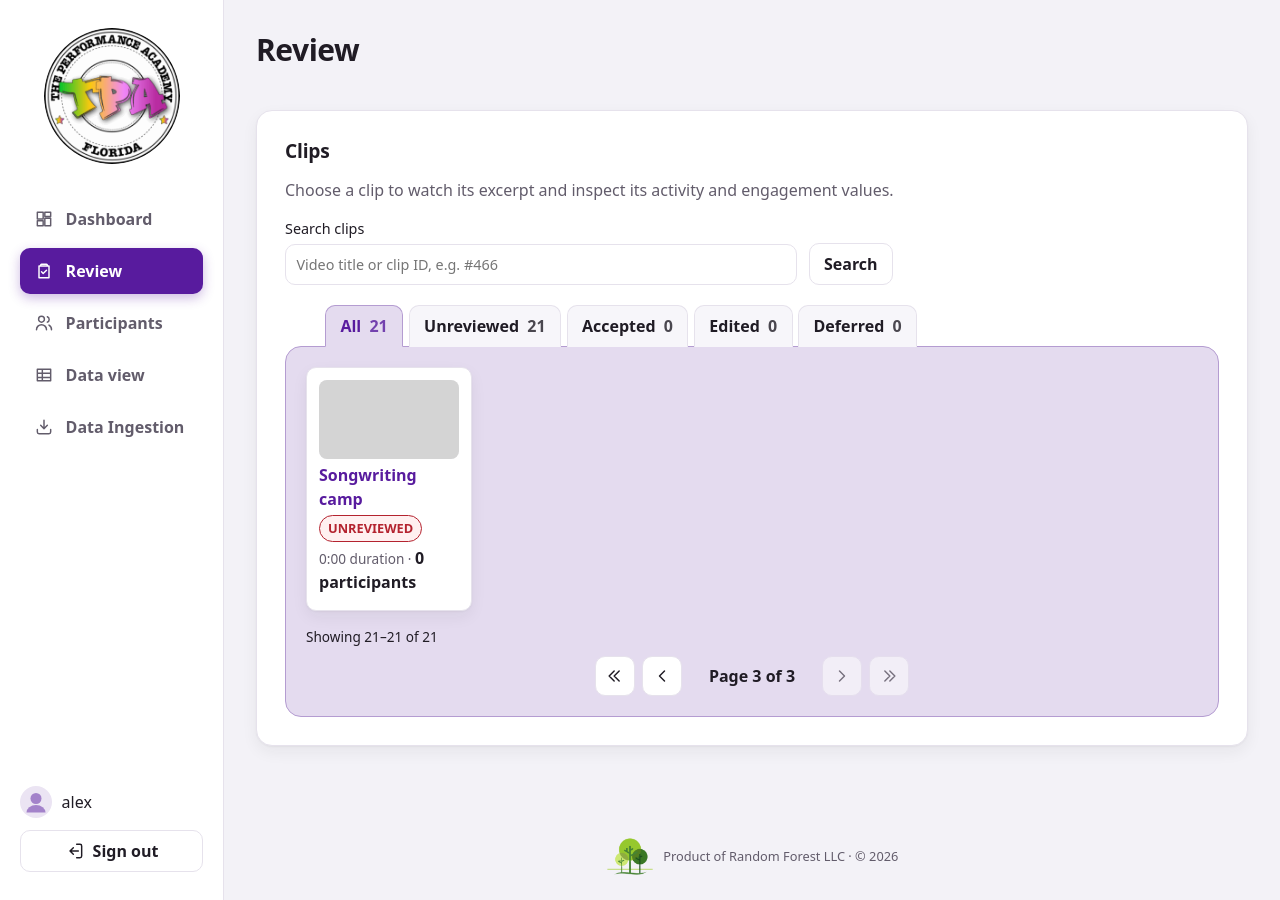
Test: searches the complete queue by video title or exact clip ID and preserves search across pages and tabs
expect the text "Showing 21–21 of 21" is shown: met, box [306, 627, 438, 646]
Type "CAMP" into the search field labelled "Search clips" at [541, 265], box [285, 244, 797, 285]
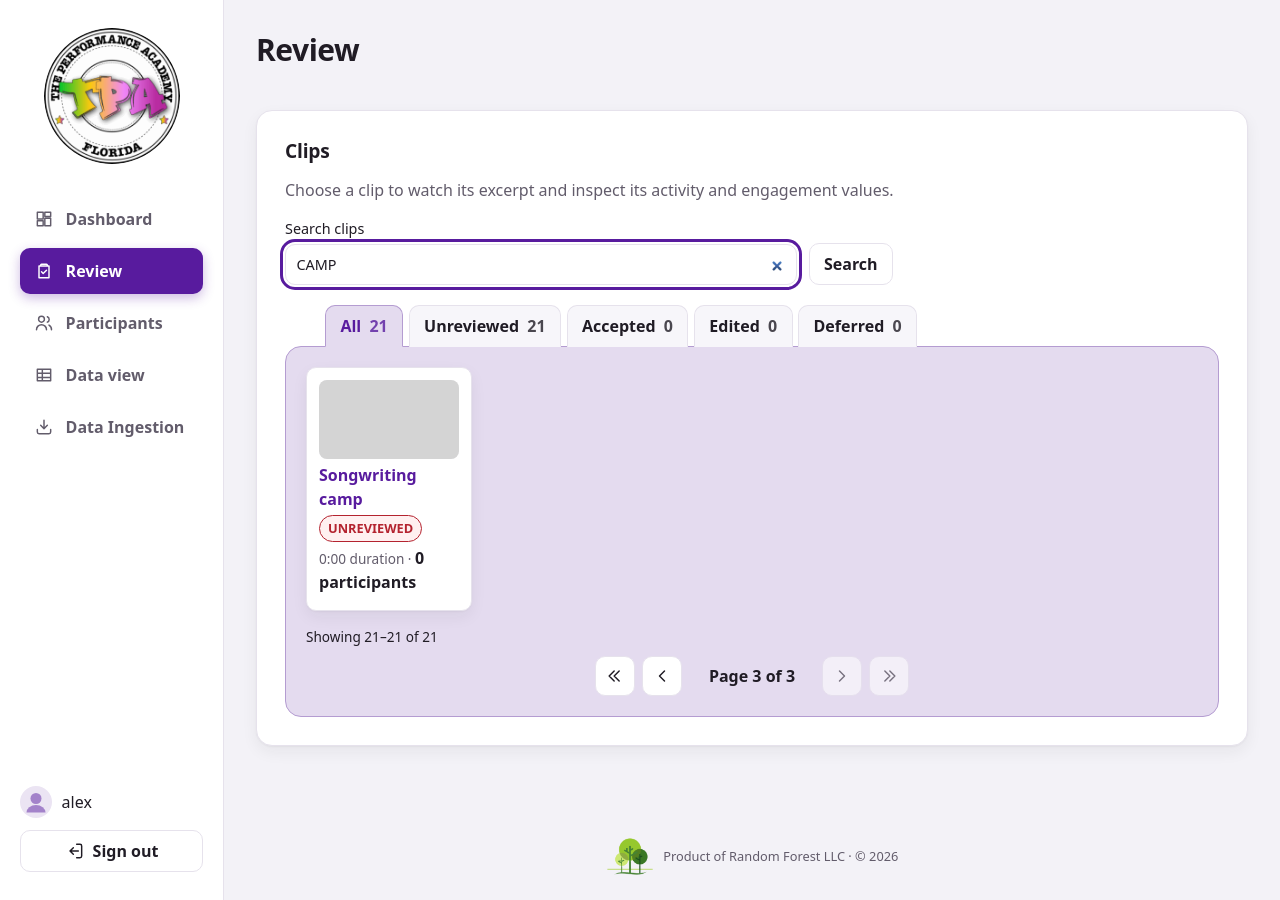
Click the button "Search" at [851, 264], box [809, 243, 893, 285]
(page scrolled)
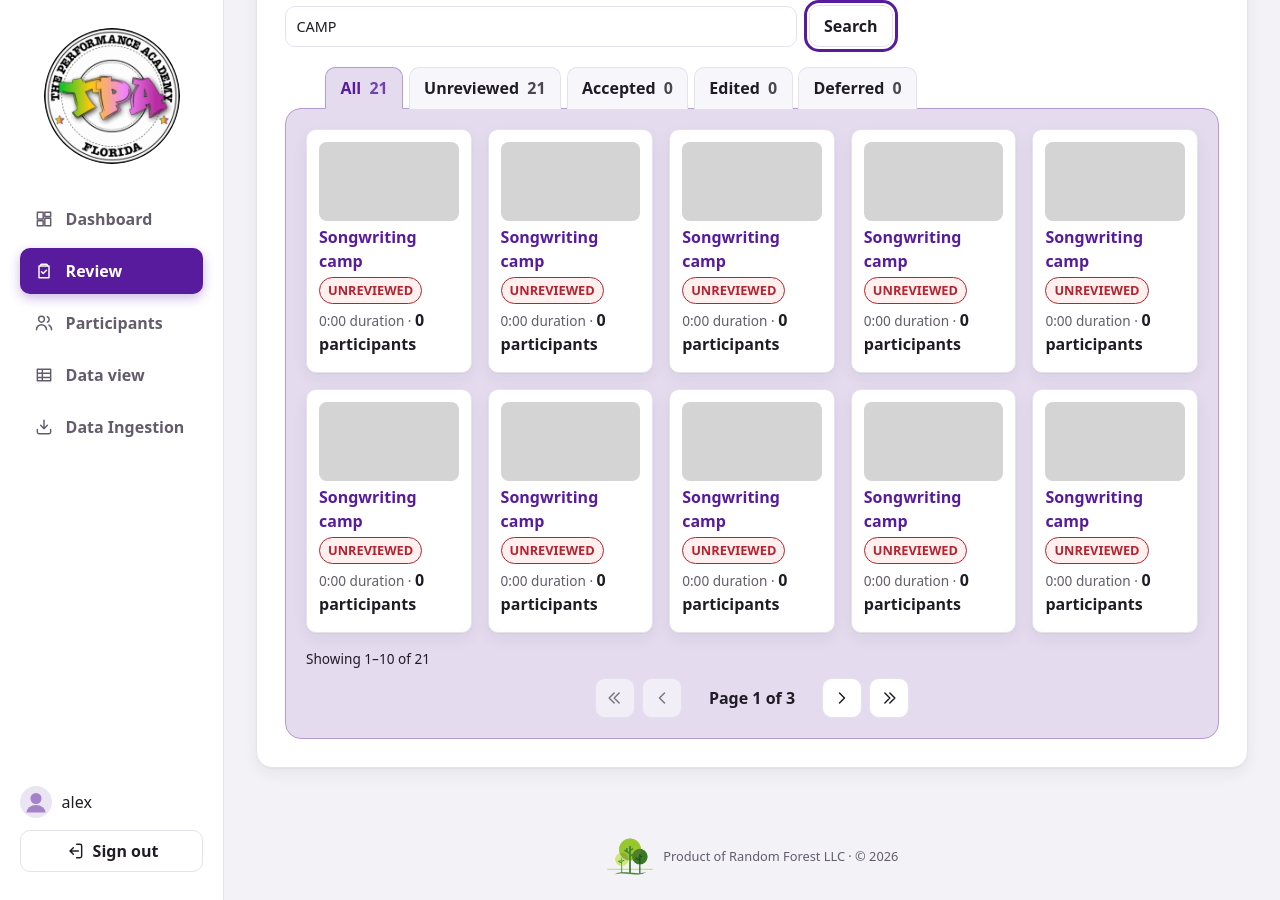
expect the text "Showing 1–10 of 21" is shown: met, box [306, 649, 430, 668]
Click the button named "Last page" at [889, 698], box [869, 678, 909, 718]
(page scrolled)
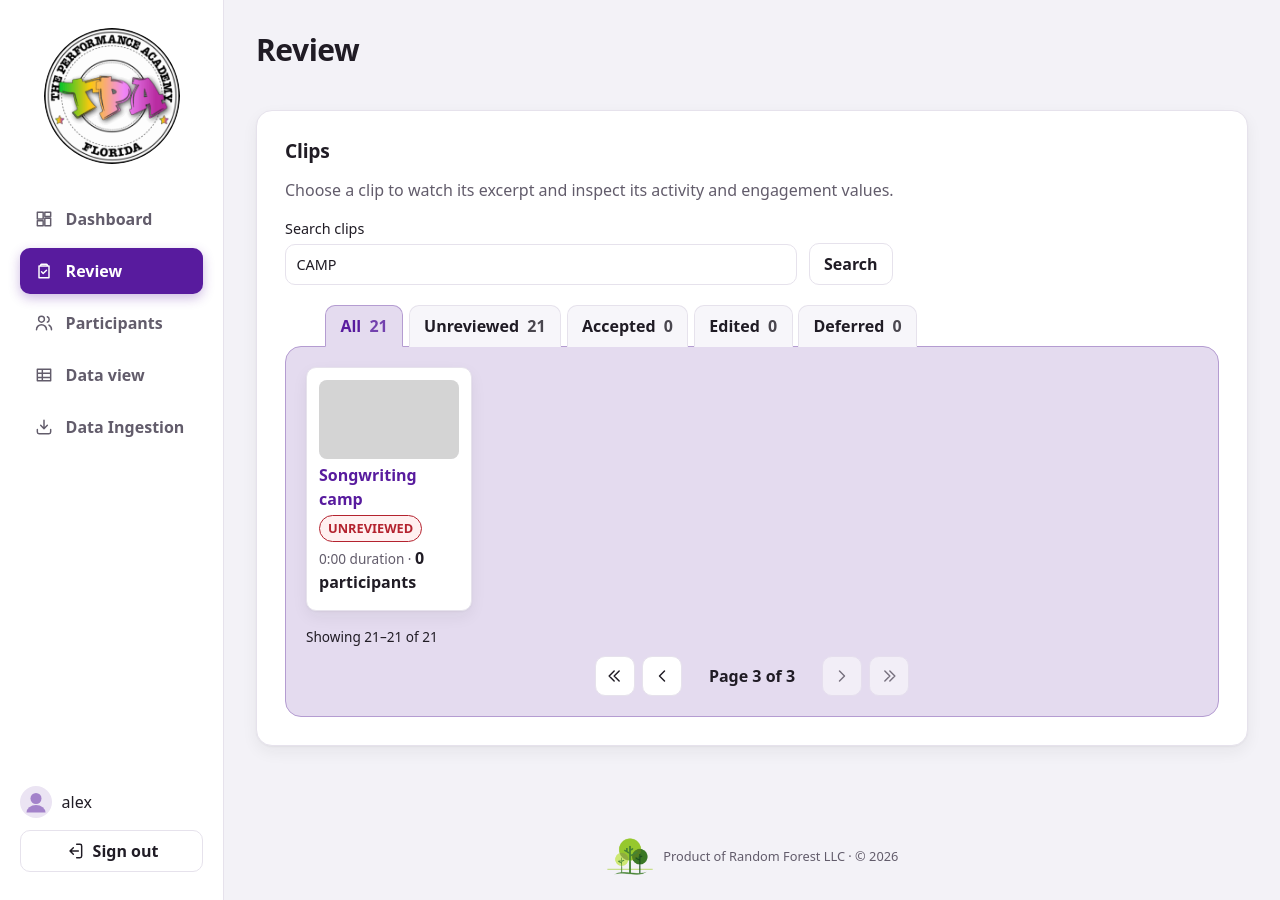
expect the text "Showing 21–21 of 21" is shown: met, box [306, 627, 438, 646]
Replace the text in the search field labelled "Search clips" with "#21" at [541, 265], box [285, 244, 797, 285]
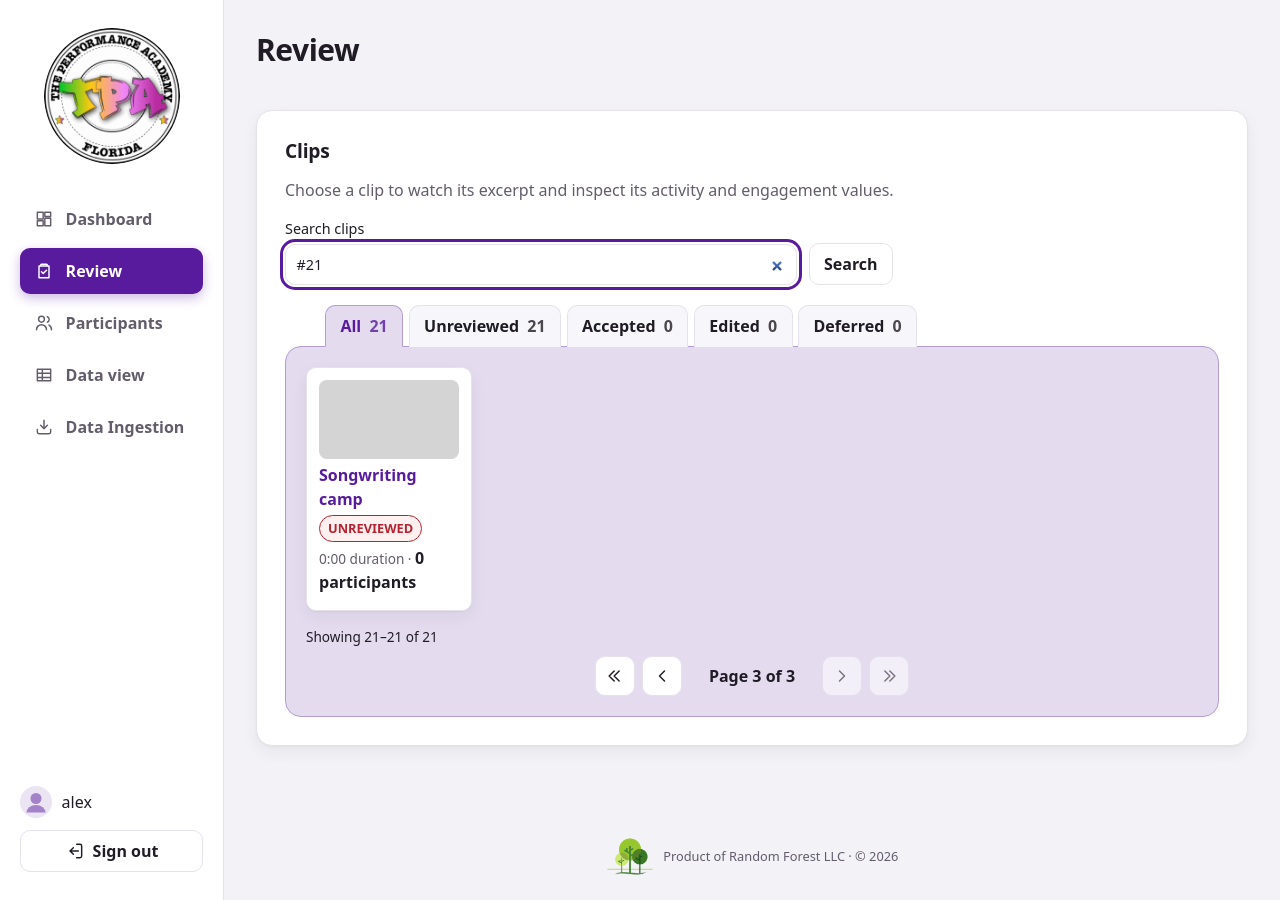
Click the button "Search" at [851, 264], box [809, 243, 893, 285]
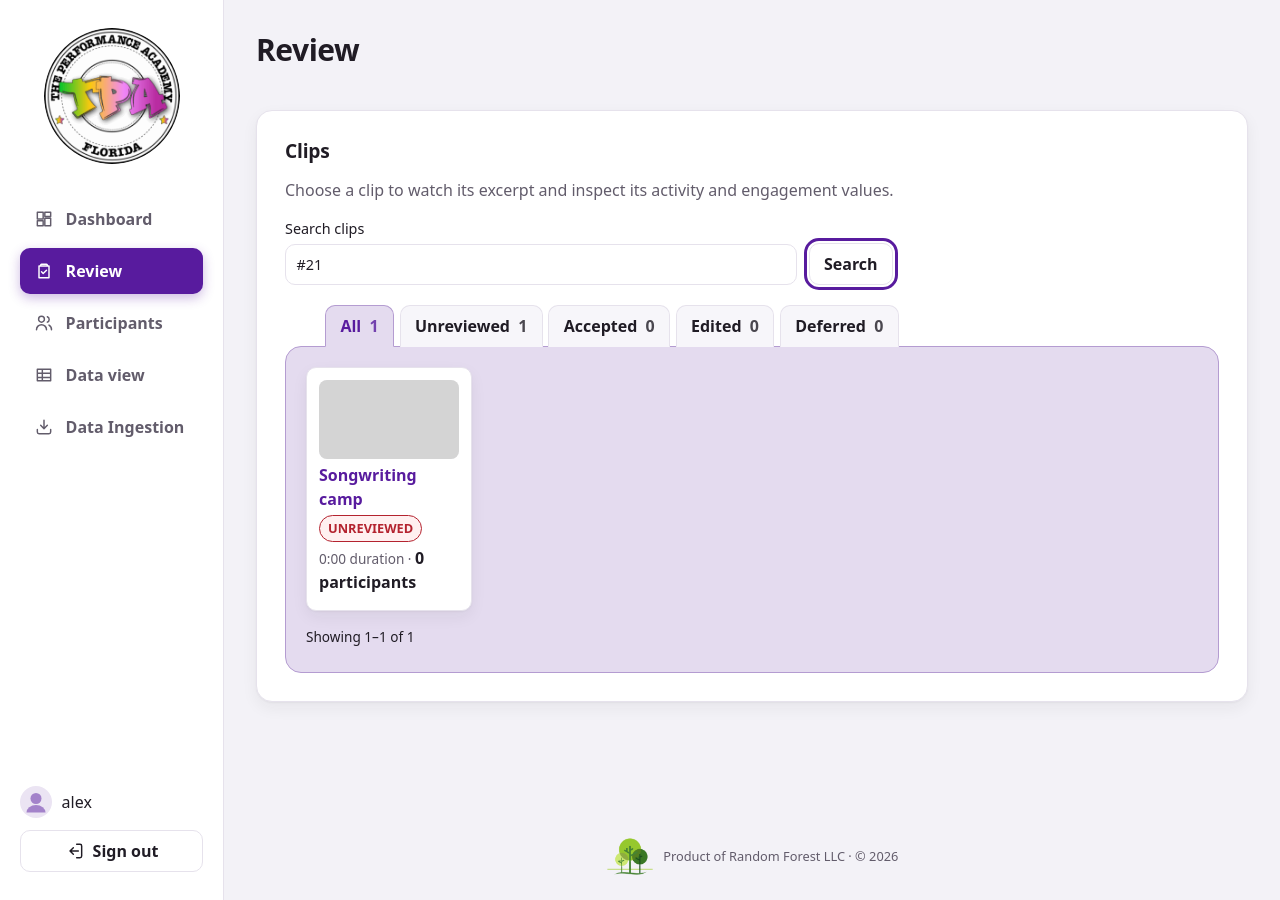
expect the text "Showing 1–1 of 1" is shown: met, box [306, 627, 414, 646]
Click the button "Accepted 0" at [609, 326], box [548, 305, 670, 347]
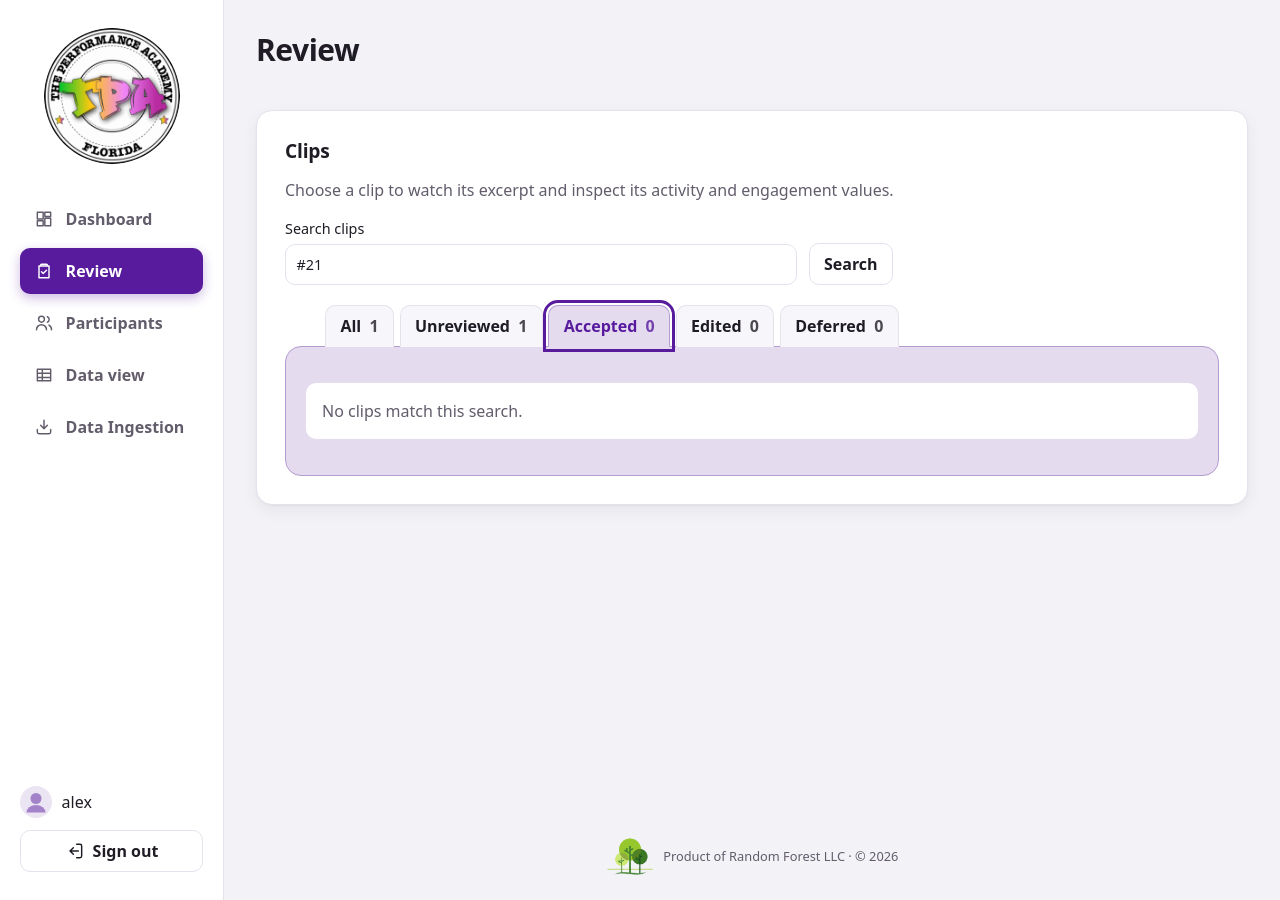
expect the text "No clips match this search." is shown: met, box [306, 383, 1198, 439]
